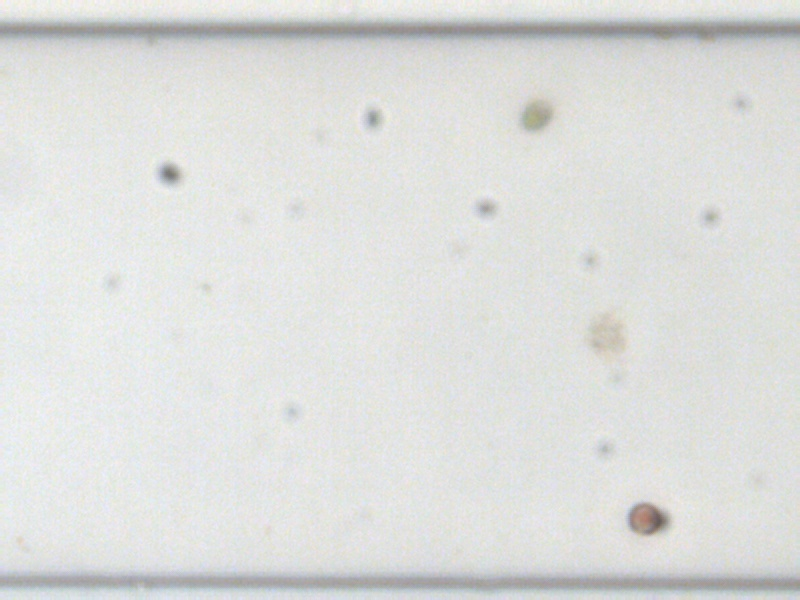Dunaliella salina: (519, 94, 553, 132)
Porphyridium: (625, 500, 661, 538)
